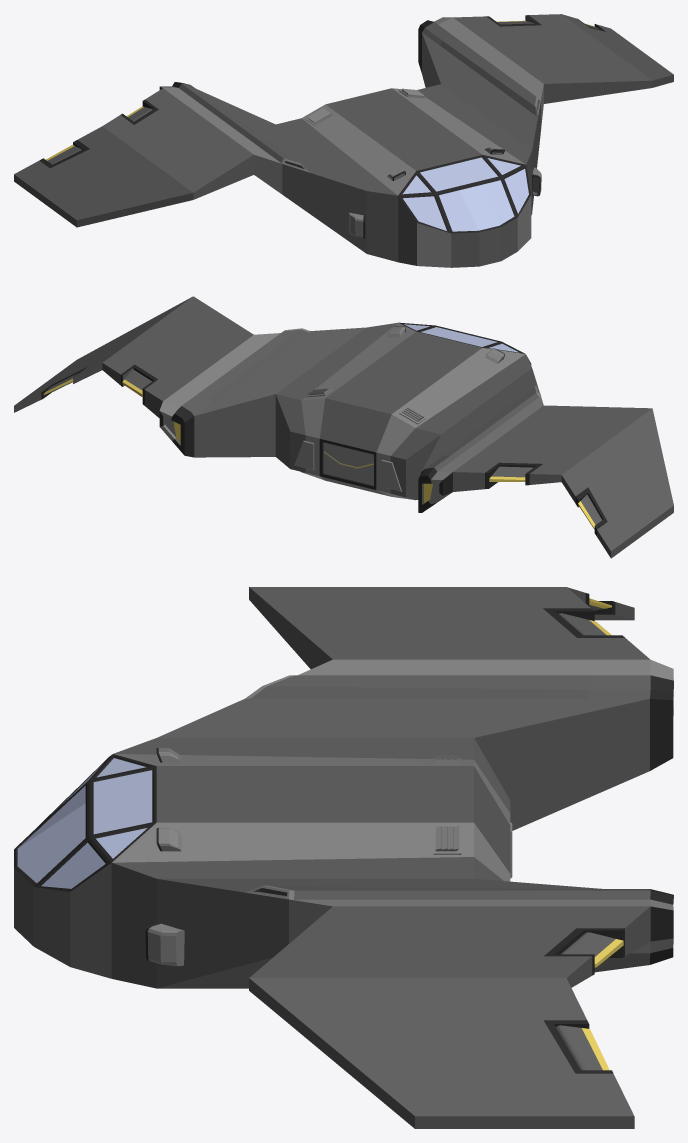
The model's file is spaceship.glb.
3 views of the same model, one above another, from view 1: azimuth 30°, elevation 25°; view 2: azimuth 150°, elevation 25°; view 3: azimuth 270°, elevation 25° (orthographic). The views are drawn at different scales.
Visible parts, largest first — view 1: Spaceship; view 2: Spaceship; view 3: Spaceship.
Part boxes in pixels (bbox=[...]): Spaceship: bbox=[14, 14, 673, 267]; Spaceship: bbox=[14, 296, 673, 558]; Spaceship: bbox=[14, 587, 673, 1128].
Size of the model in its own units: 28.54 by 4.08 by 15.66.
